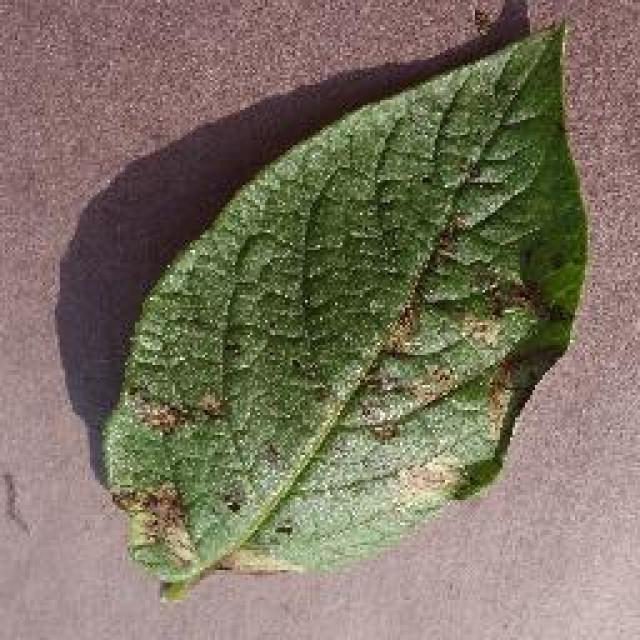late_blight: (92, 15, 592, 603)
